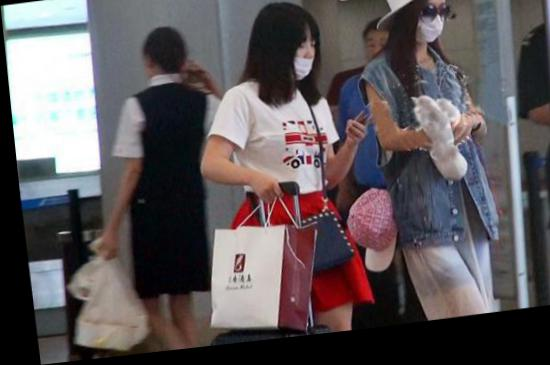OK: (410, 8, 450, 53)
WRONG: (273, 37, 323, 87)
